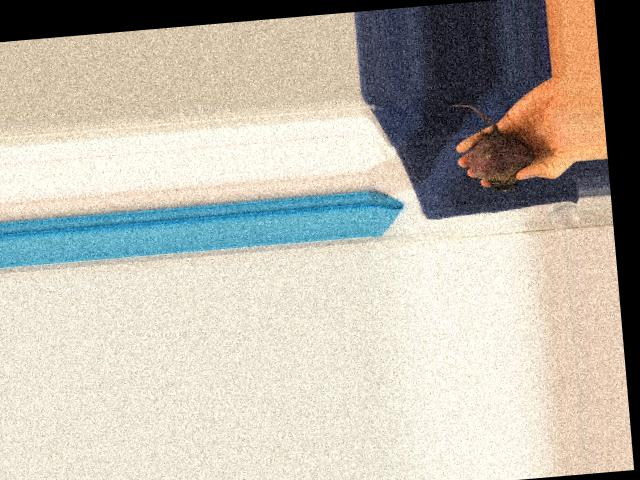beet: (449, 98, 535, 195)
